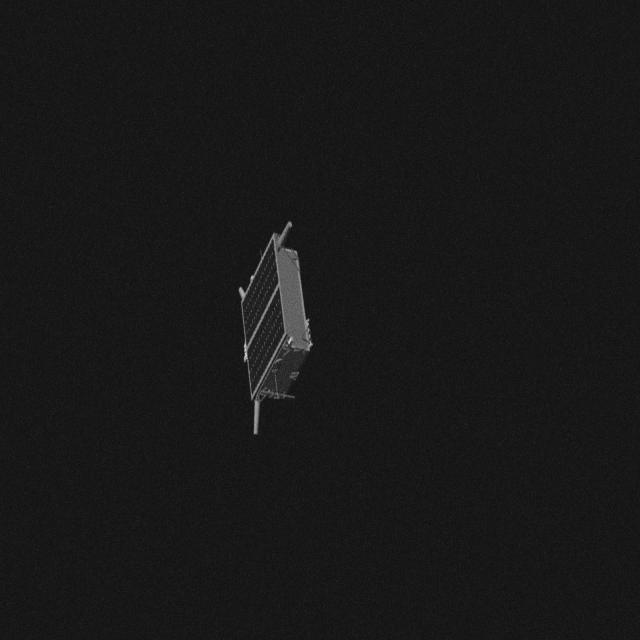satellite: (214, 218, 316, 452)
